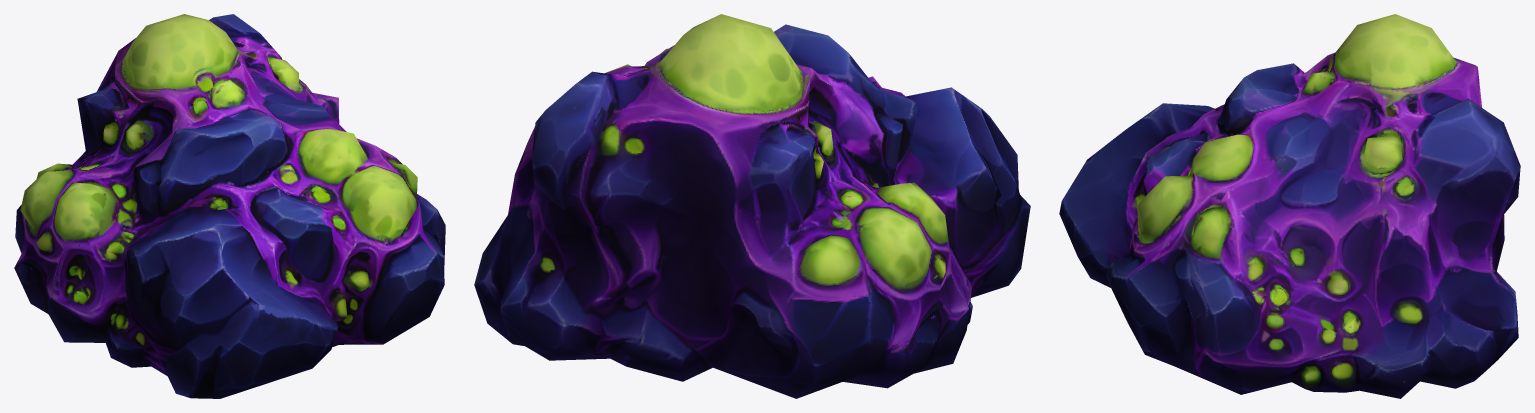
Rendered from fungal-biomass-boulder_LOD1.glb.
The picture shows the model from 3 angles, left to right: view 1: azimuth 30°, elevation 25°; view 2: azimuth 150°, elevation 25°; view 3: azimuth 270°, elevation 25°; orthographic projection. The views are drawn at different scales.
Parts seen in each view (by area): view 1: fungal-biomass-boulder_LOD1; view 2: fungal-biomass-boulder_LOD1; view 3: fungal-biomass-boulder_LOD1.
Part boxes in pixels (x1,y1,x2,y2): fungal-biomass-boulder_LOD1: [14, 14, 445, 398]; fungal-biomass-boulder_LOD1: [474, 14, 1030, 398]; fungal-biomass-boulder_LOD1: [1059, 14, 1520, 398].
Size of the model in its own units: 1.14 by 0.8496 by 1.21.
Materials: 1 (1 with a texture image).
